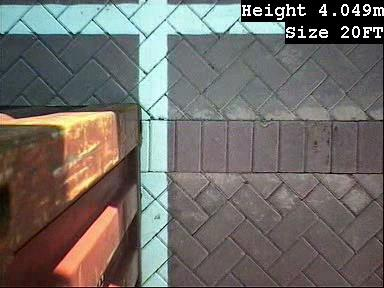groundmarker_2: (191, 30, 236, 95), (195, 219, 240, 284)
